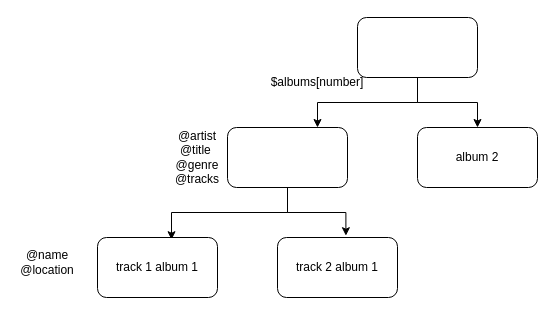
Image size: 555x315. Some labels were removed from this diagram. The centre of each missing label's shape, as x and y in pixels:
"$albums" goes at point (417, 47).
"album 1" goes at point (287, 157).
